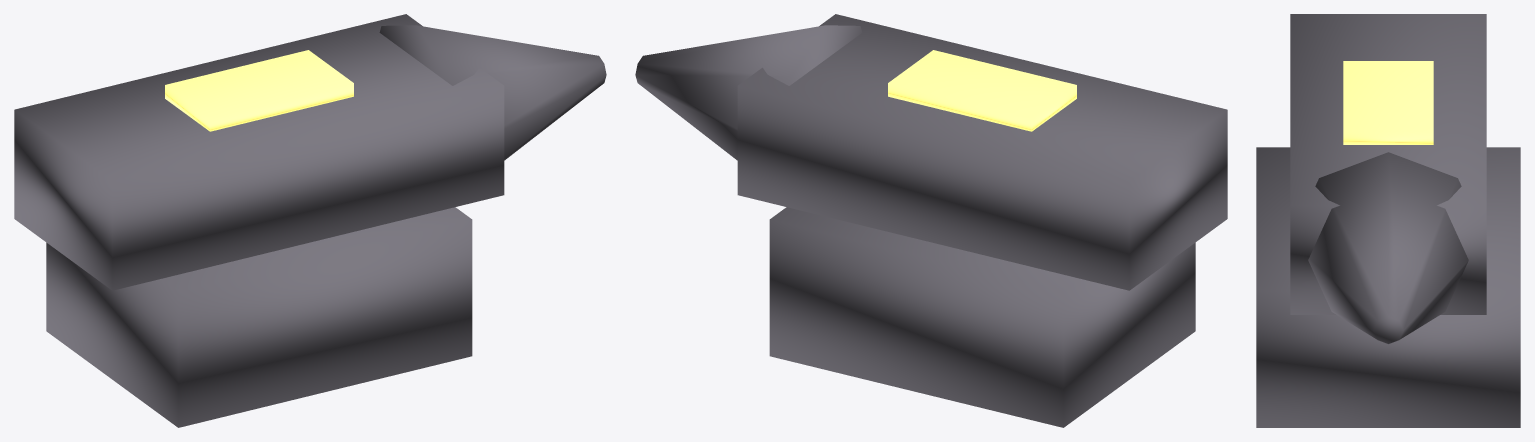
File: prop_colossal_forge_anvil.glb
3 views of the same model, side by side, from view 1: azimuth 30°, elevation 25°; view 2: azimuth 150°, elevation 25°; view 3: azimuth 270°, elevation 25° (orthographic).
Visible parts, largest first — view 1: Anvil_Face, Anvil_Plinth, Anvil_Horn, Ingot_Forging_Glow; view 2: Anvil_Face, Anvil_Plinth, Anvil_Horn, Ingot_Forging_Glow; view 3: Anvil_Plinth, Anvil_Face, Anvil_Horn, Ingot_Forging_Glow.
Part boxes in pixels (left/top/right/bottom): Anvil_Face: left=14, top=14, right=504, bottom=290; Anvil_Plinth: left=46, top=207, right=472, bottom=427; Anvil_Horn: left=379, top=25, right=606, bottom=160; Ingot_Forging_Glow: left=165, top=50, right=353, bottom=131; Anvil_Face: left=737, top=14, right=1227, bottom=290; Anvil_Plinth: left=769, top=207, right=1195, bottom=427; Anvil_Horn: left=635, top=25, right=862, bottom=160; Ingot_Forging_Glow: left=888, top=50, right=1076, bottom=131; Anvil_Plinth: left=1256, top=147, right=1520, bottom=427; Anvil_Face: left=1290, top=14, right=1486, bottom=314; Anvil_Horn: left=1308, top=152, right=1468, bottom=343; Ingot_Forging_Glow: left=1343, top=61, right=1433, bottom=144.
Bounding box in the file's own units: 8.2 × 4.1 × 3.5.
